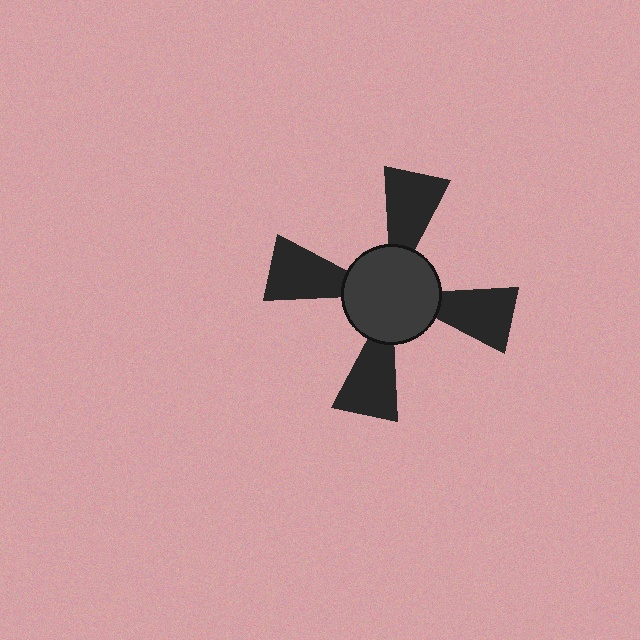fan: (238, 141, 544, 447)
